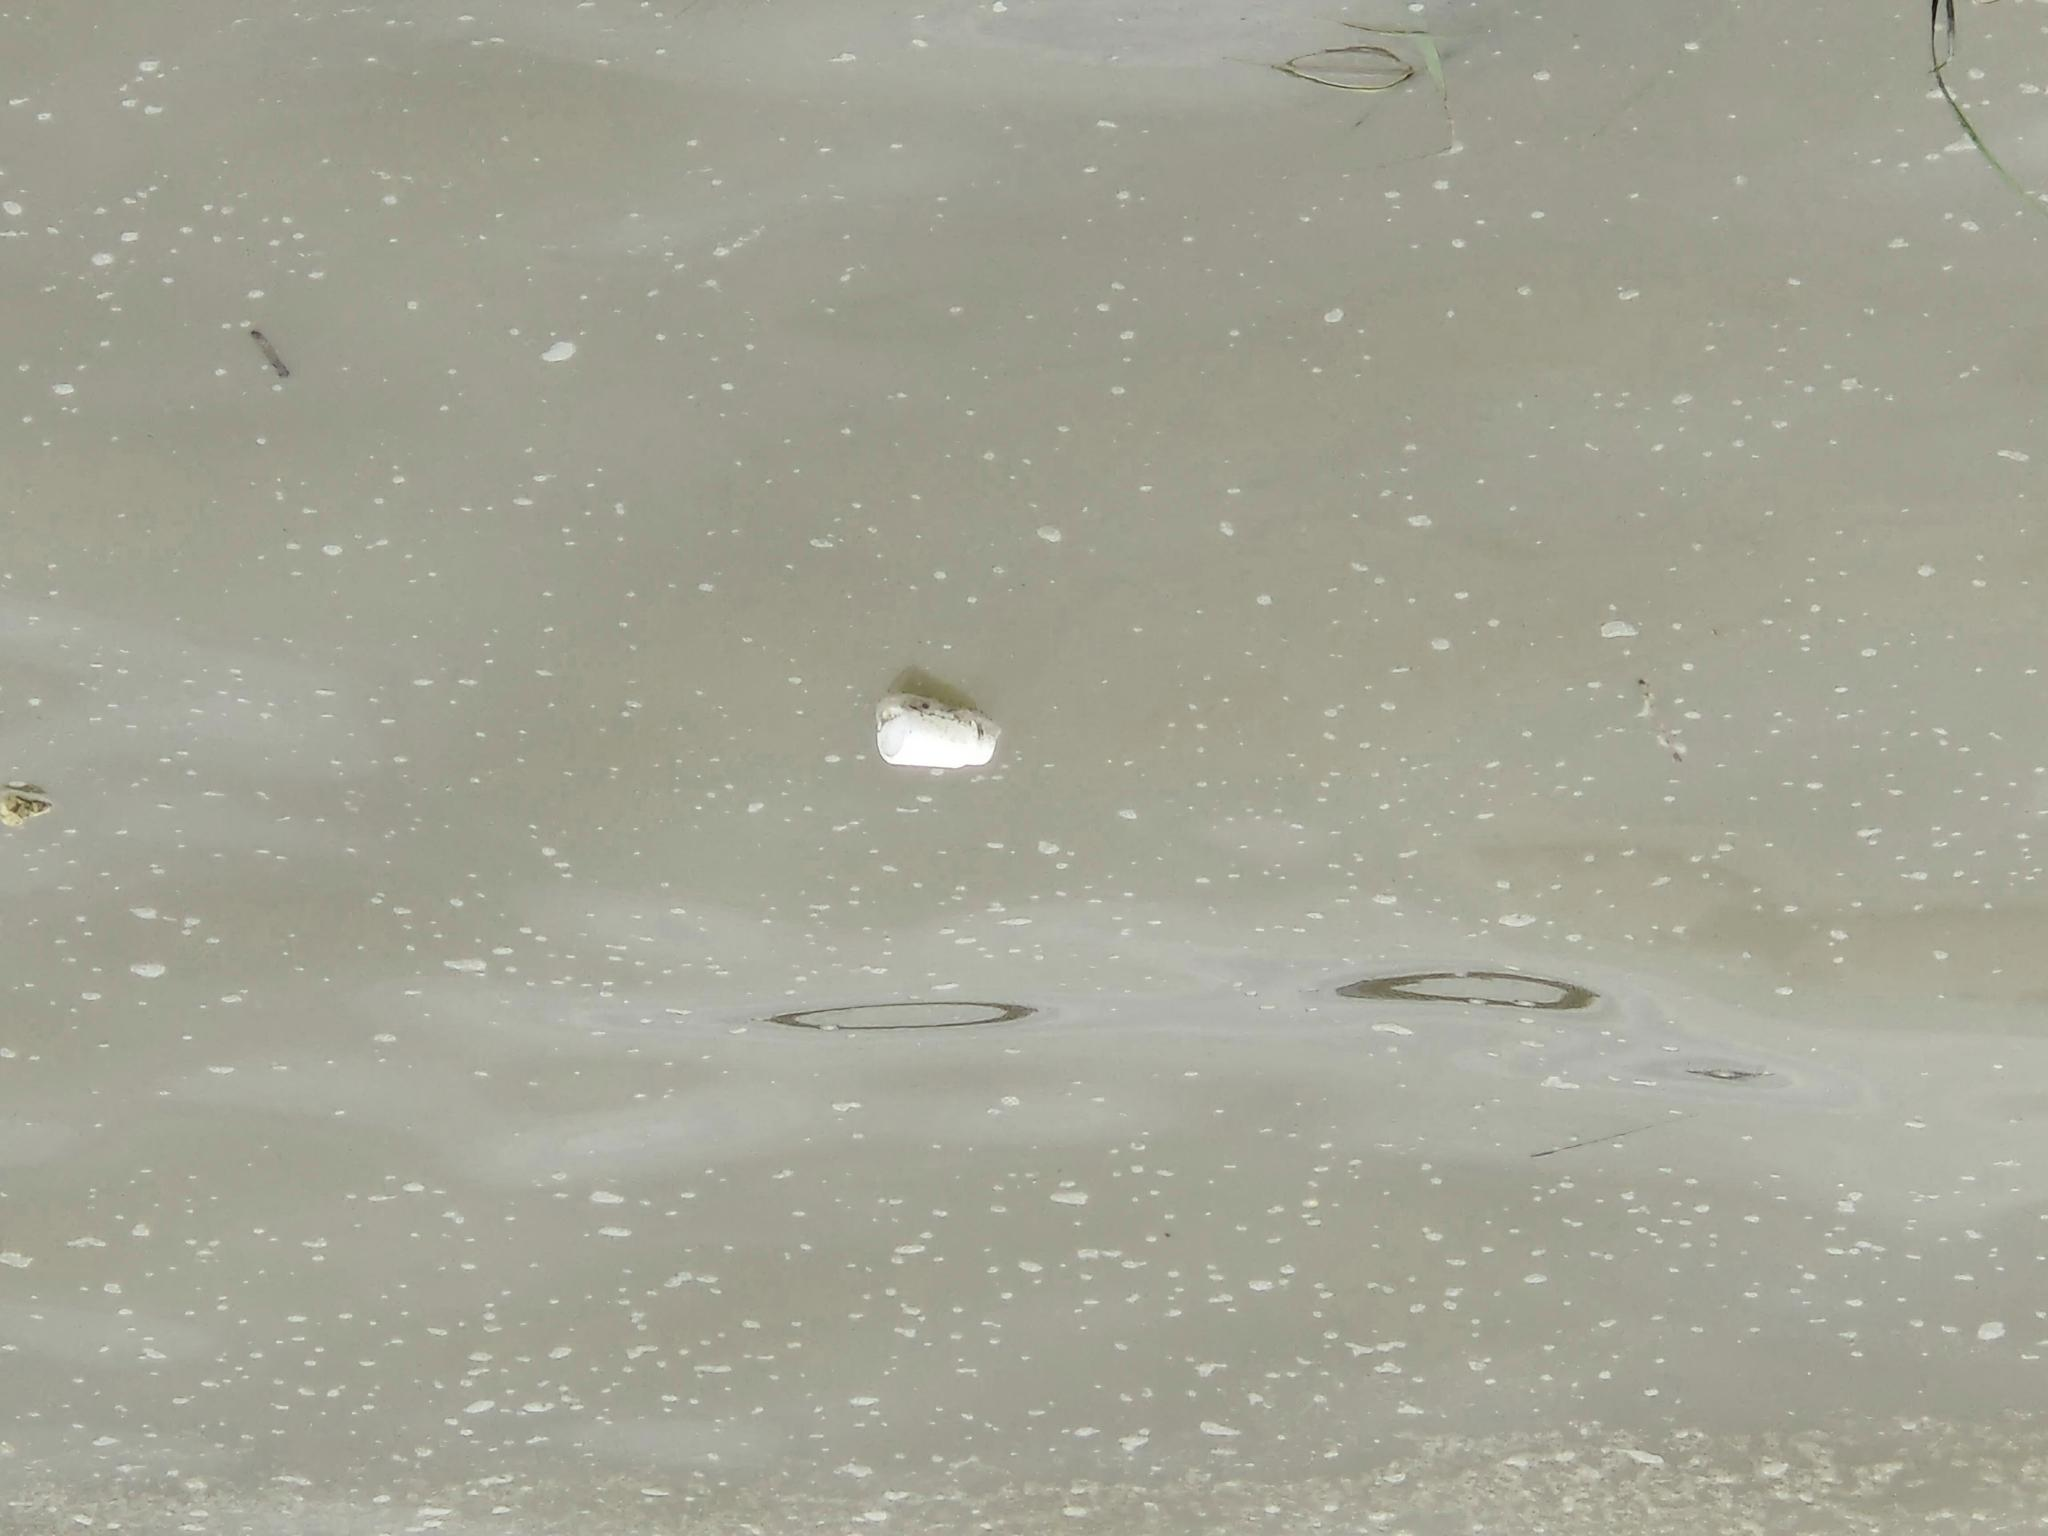Plastic: (876, 700, 998, 770)
